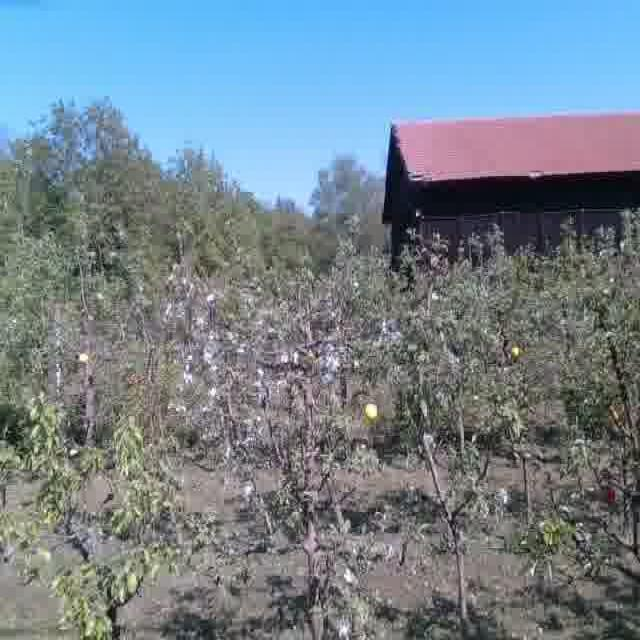red: (604, 485, 618, 504)
yellow: (364, 400, 380, 422), (77, 353, 90, 364), (513, 343, 521, 359)
